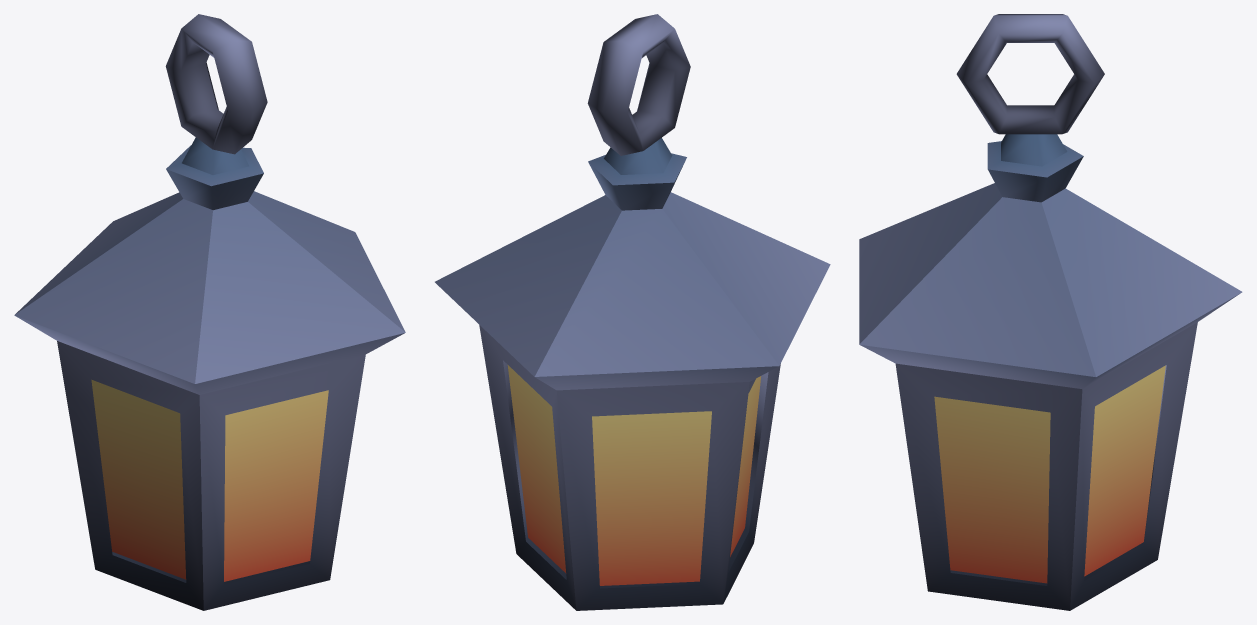
File: Lantern.fbx
3 renders of one model, left to right at view 1: azimuth 30°, elevation 25°; view 2: azimuth 150°, elevation 25°; view 3: azimuth 270°, elevation 25°, orthographic. The views are drawn at different scales.
Visible parts, largest first — view 1: Cylinder.006, Cylinder.007; view 2: Cylinder.006, Cylinder.007; view 3: Cylinder.006, Cylinder.007.
Boxes of the visible parts, x1,y1,x2,y2 form: Cylinder.006: (14,14,405,610); Cylinder.007: (91,379,328,581); Cylinder.006: (435,14,830,610); Cylinder.007: (507,365,761,585); Cylinder.006: (859,14,1242,610); Cylinder.007: (934,365,1165,583).
Bounding box in the file's own units: 52.86 × 78.69 × 50.28.
